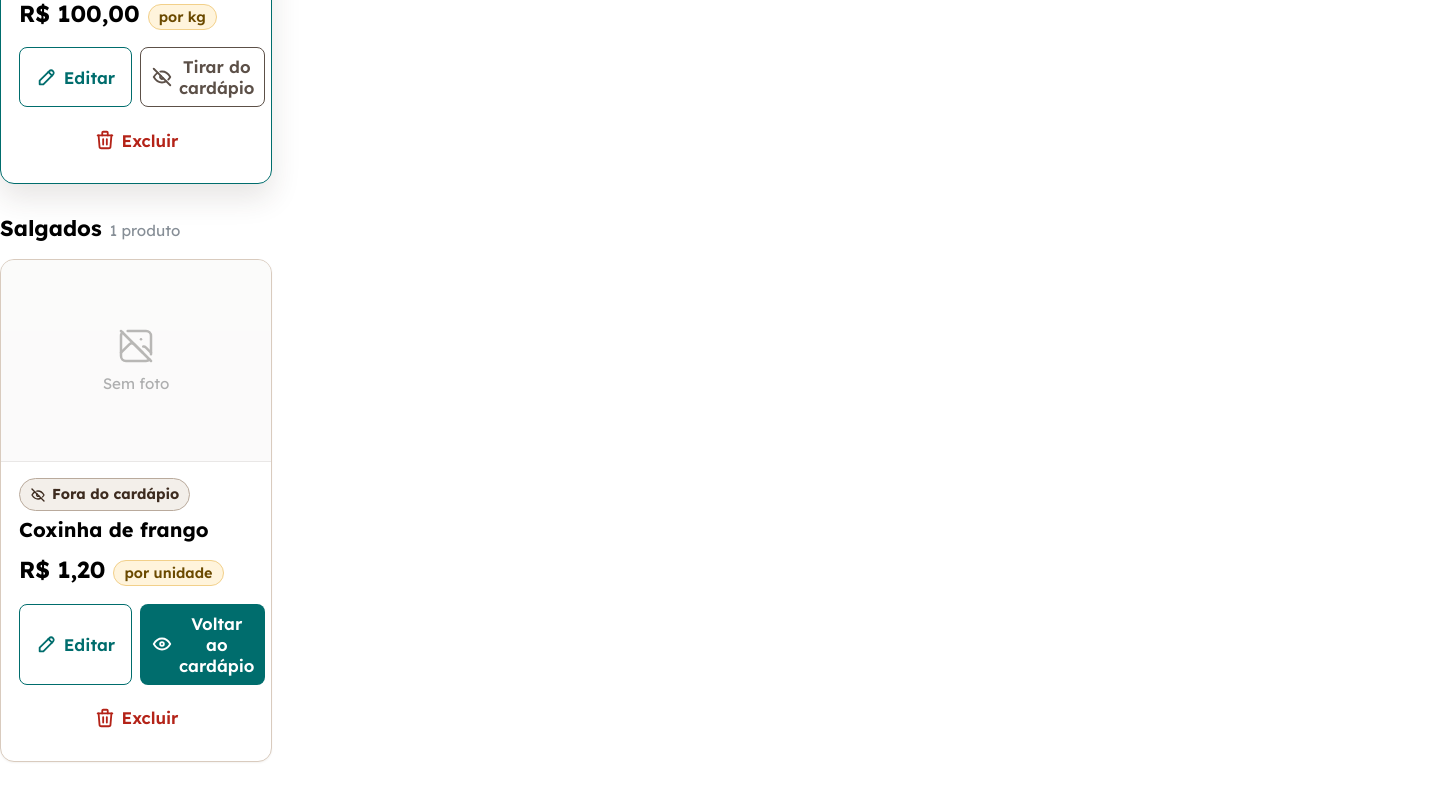
Scenario: Lista de produtos (ZAP-41, RF05, RF06) › produto fora do cardápio continua com "Editar" e "Excluir", e excluir tira da lista (ZAP-151, RN14)
The width and height of the screenshot is (1440, 810).
(page scrolled)
Click the button with aria-label "Excluir Coxinha de frango" at [136, 718], box x1=19 y1=693 x2=253 y2=743
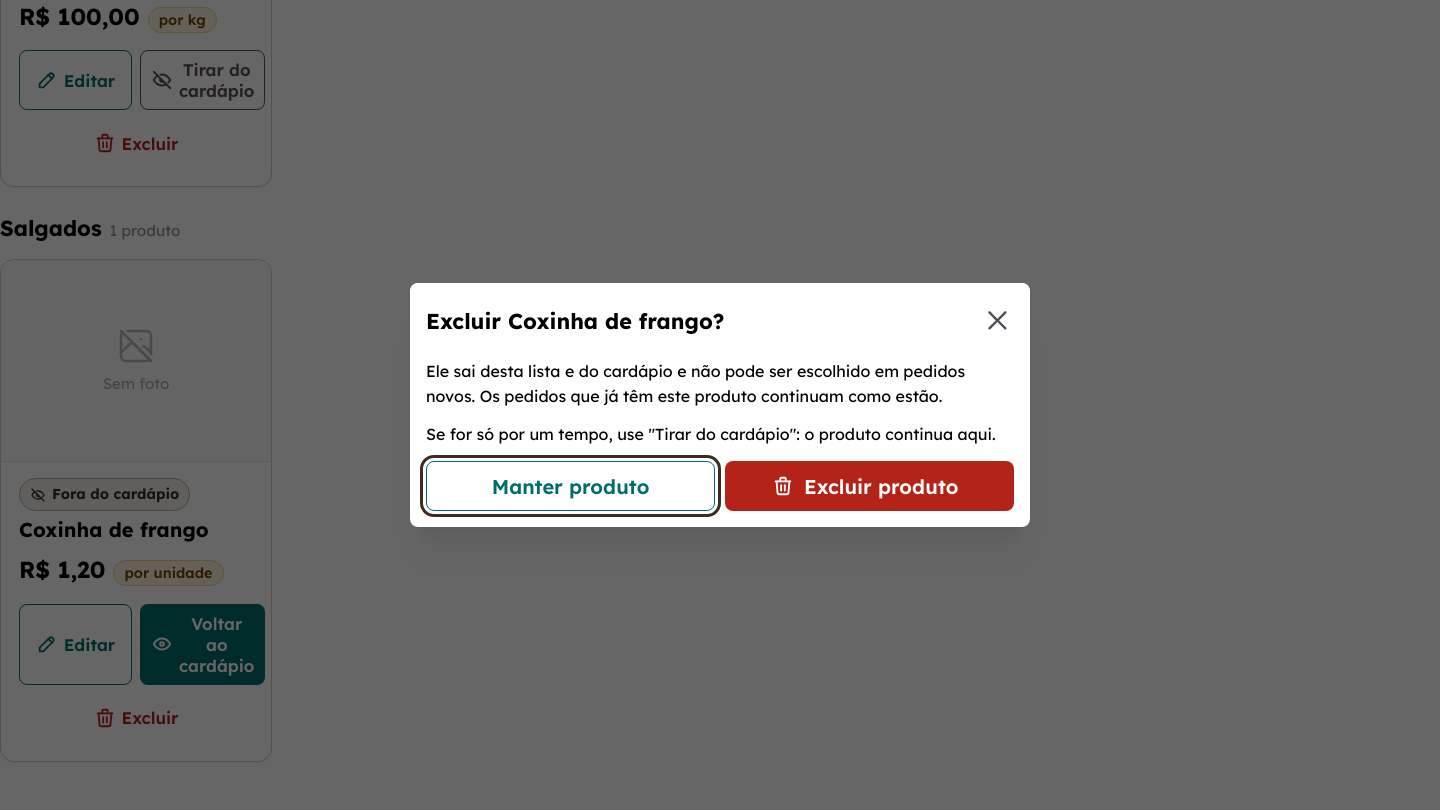
Click the button "Excluir produto" at [870, 486], box x1=725 y1=461 x2=1014 y2=511
(page scrolled)
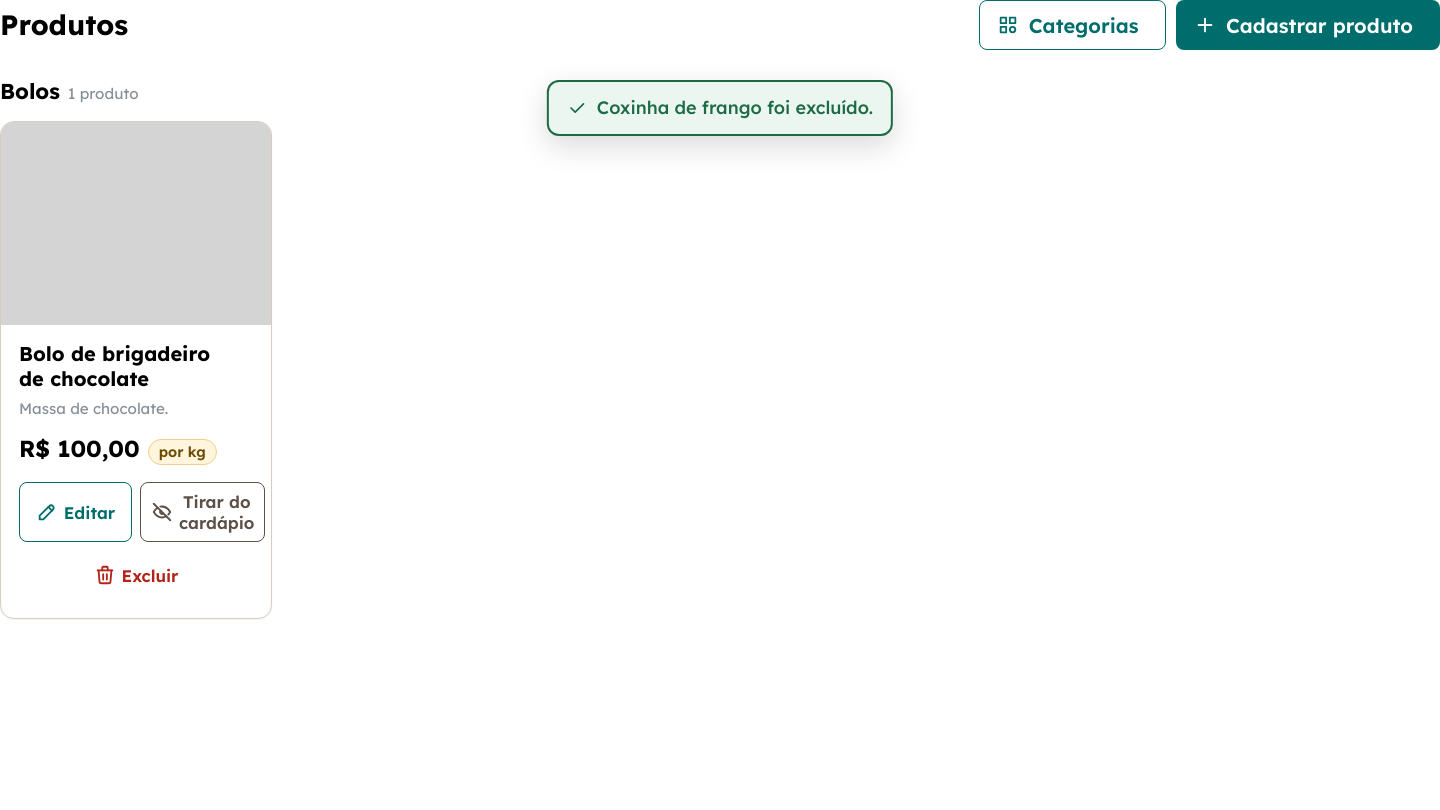
Expected: the text "Coxinha de frango foi excluído." is shown, x1=547 y1=80 x2=893 y2=136
